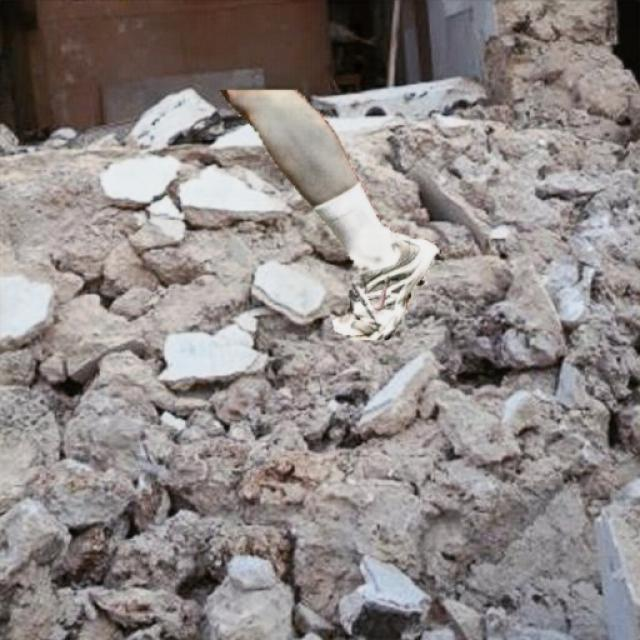Person in Rubble: (219, 90, 440, 339)
